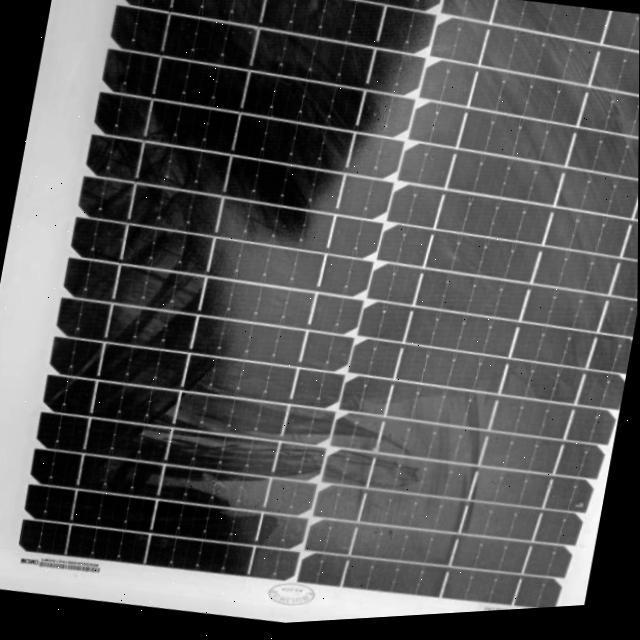Surface Contaminant: (219, 88, 639, 618)
